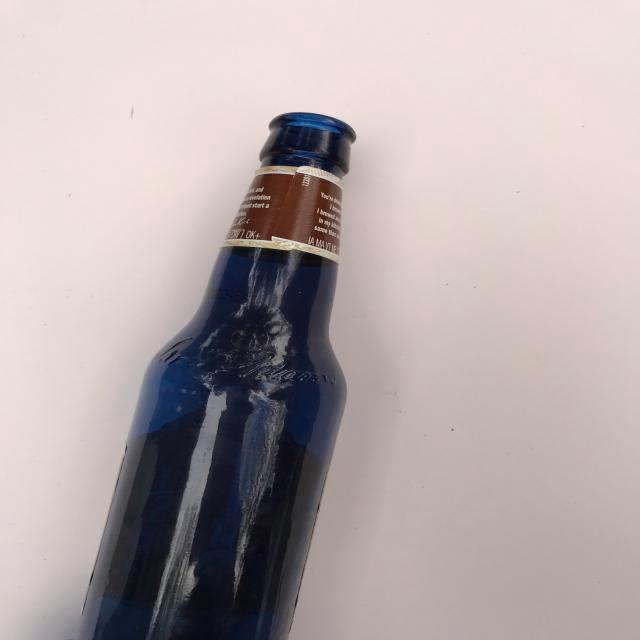glass: (66, 100, 363, 640)
